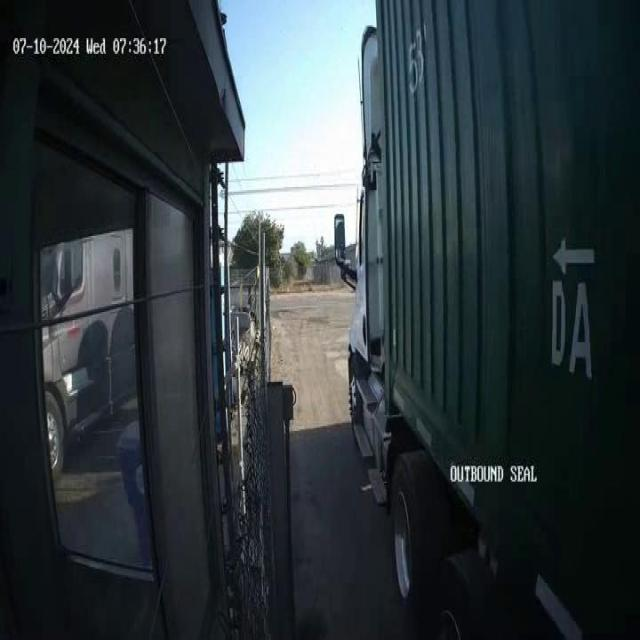TRUCK_CONTAINER: (332, 1, 638, 636)
